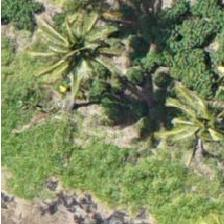coconut_tree: (36, 5, 126, 95), (166, 75, 223, 165), (45, 0, 135, 56)
